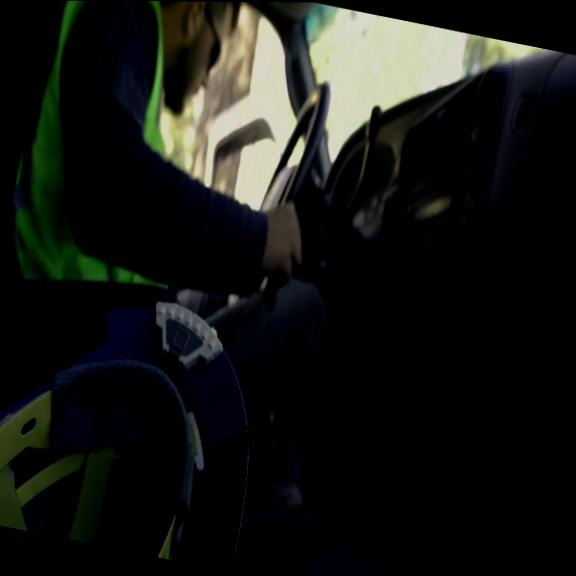safety_vest: (0, 0, 228, 306)
